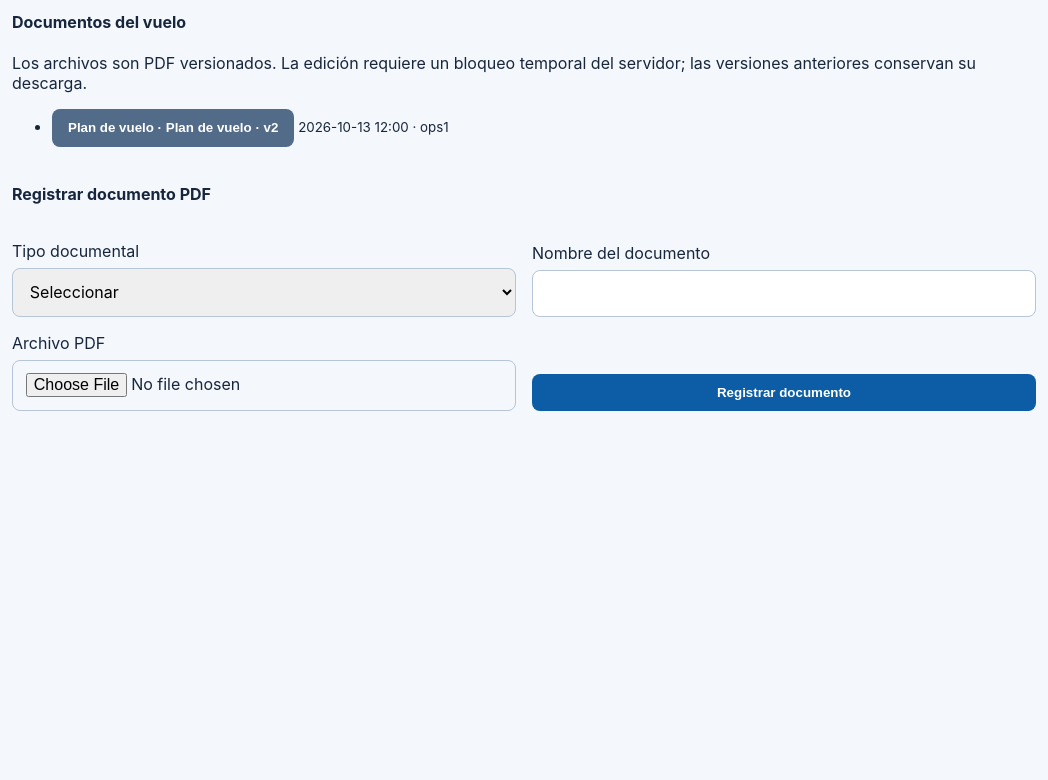
Test case: an active lease is queried again when it expires
Click the button "Plan de vuelo · Plan de vuelo · v2" at {"x": 173, "y": 128}, box [52,109,294,147]
Wait 7000 ms
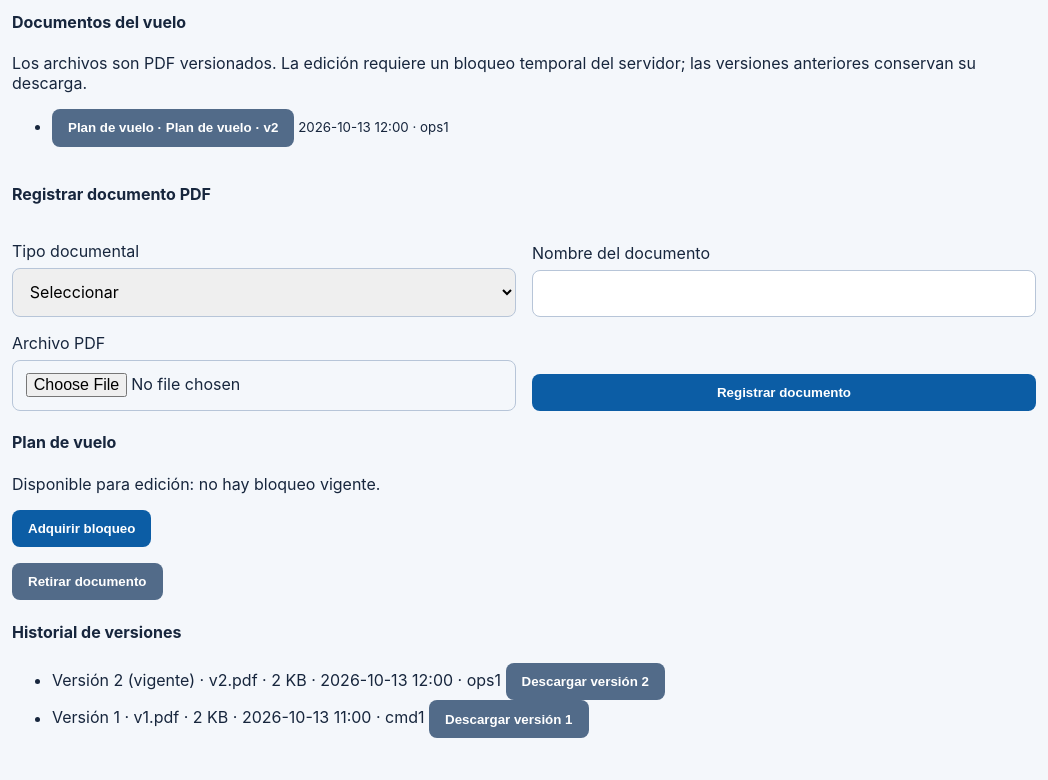
Check: the text "Disponible para edición: no hay bloqueo vigente." is shown, box [12,474,380,494]
